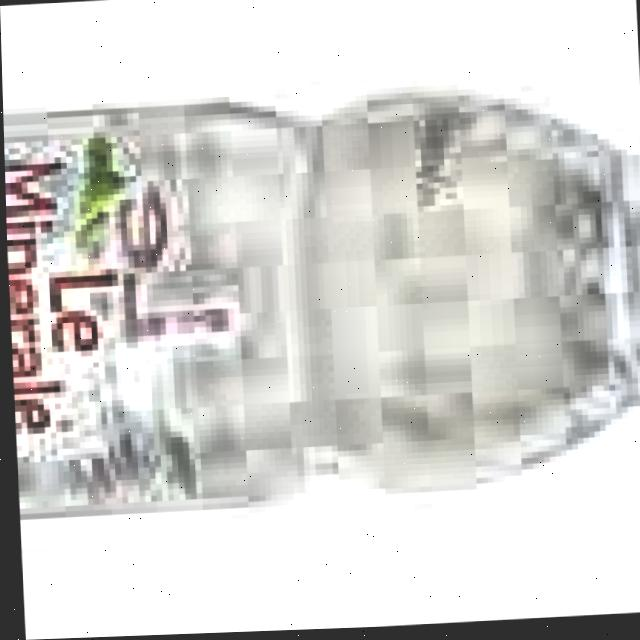plastic: (2, 72, 640, 554)
